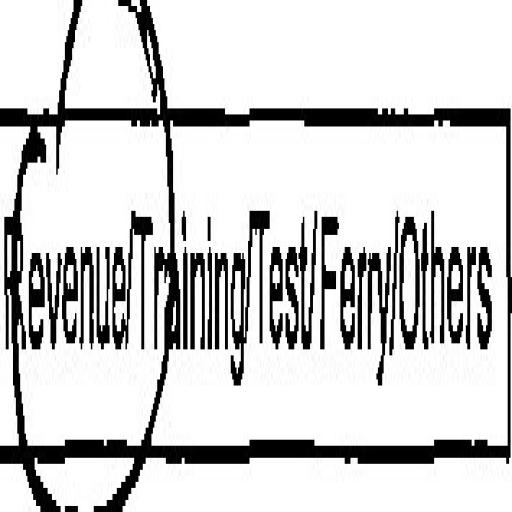check: (0, 0, 134, 512)
